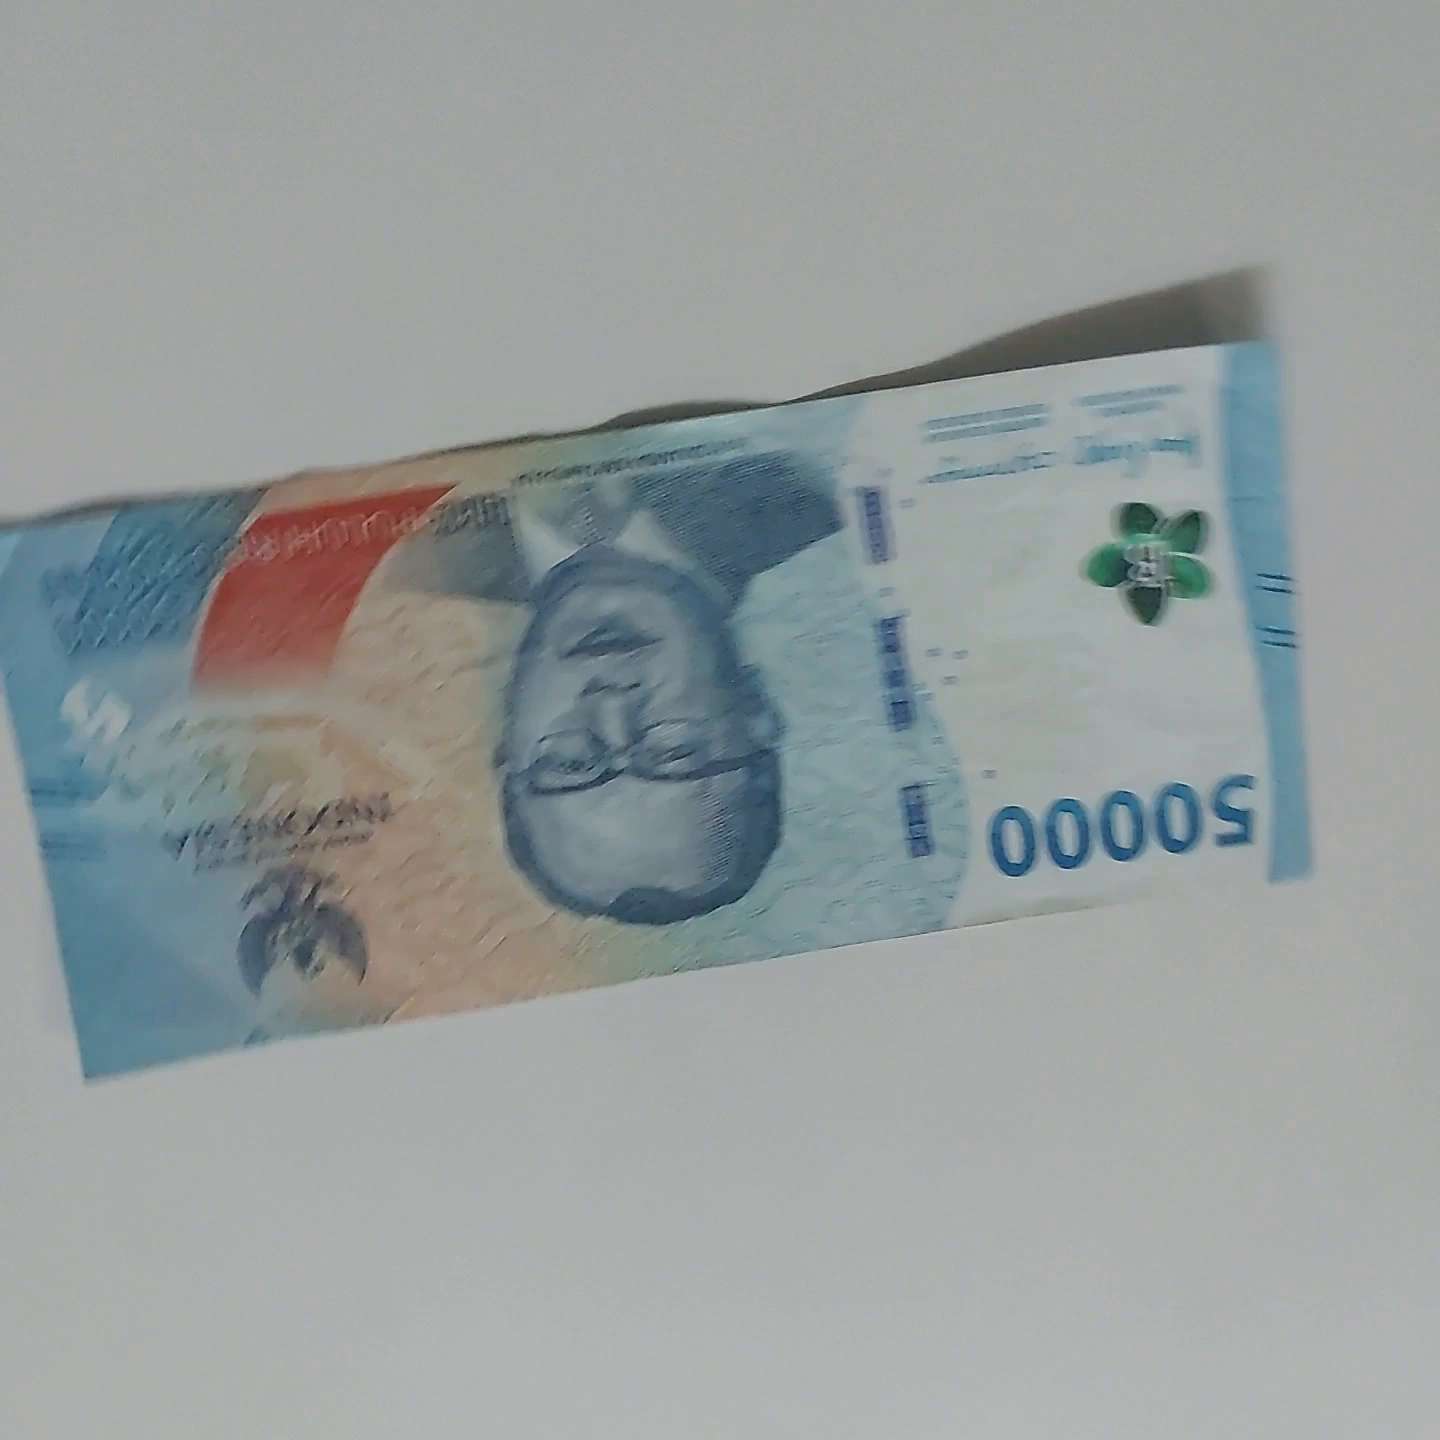50k: (4, 479, 1279, 1110)
